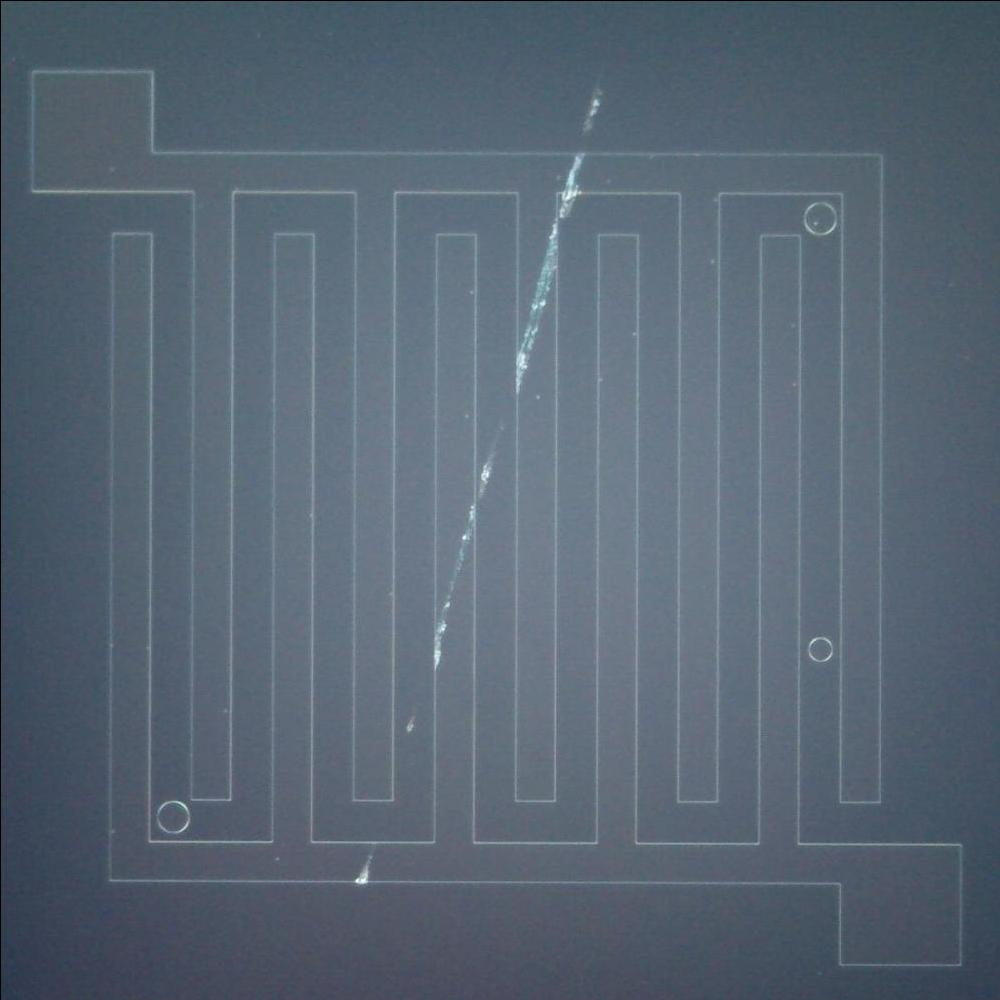circle: (800, 198, 838, 240), (154, 799, 191, 834), (808, 636, 832, 662)
scratch: (507, 101, 603, 390), (428, 456, 502, 662)
spot: (350, 842, 378, 886)
